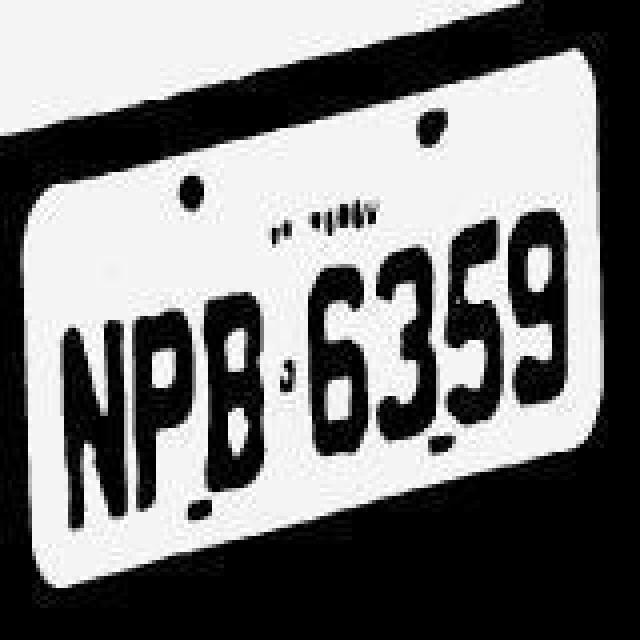3: (372, 236, 444, 444)
5: (440, 204, 504, 436)
6: (300, 254, 372, 466)
9: (508, 198, 580, 410)
B: (202, 278, 278, 498)
N: (56, 274, 128, 558)
P: (126, 266, 194, 518)
